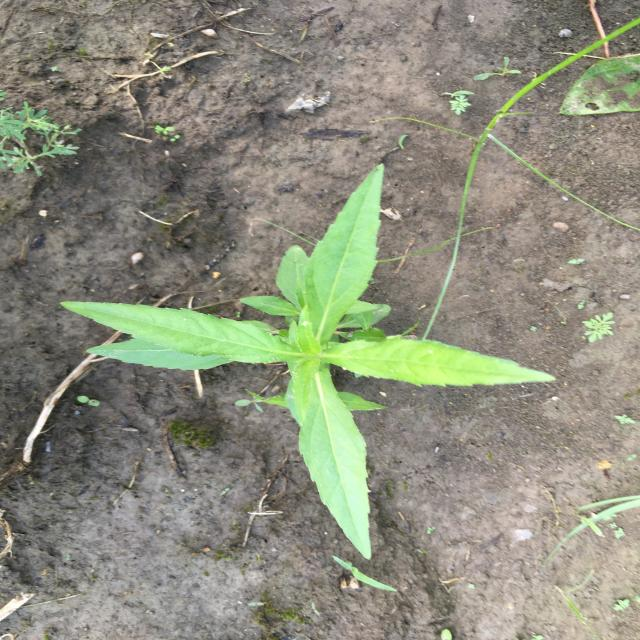Eclipta: (56, 161, 560, 561)
Ragweed: (582, 308, 618, 346)
